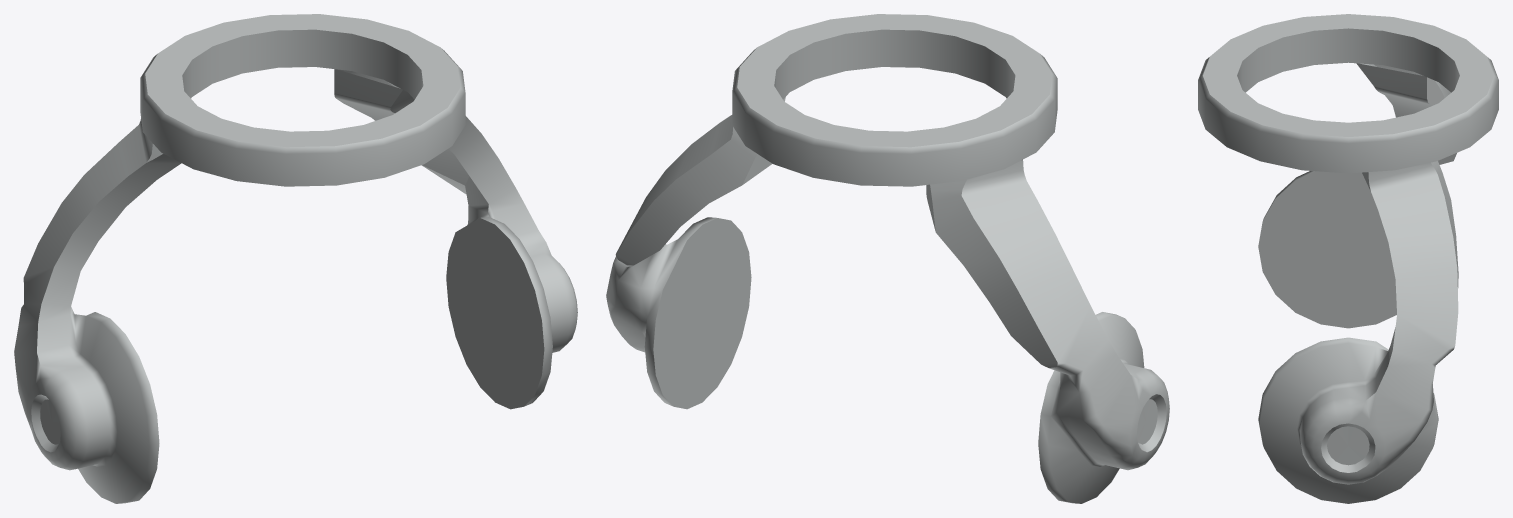
Rendered from palm.obj.
The picture shows the model from 3 angles, left to right: view 1: azimuth 30°, elevation 25°; view 2: azimuth 150°, elevation 25°; view 3: azimuth 270°, elevation 25°; orthographic projection. The views are drawn at different scales.
Parts seen in each view (by area): view 1: palm; view 2: palm; view 3: palm.
Boxes of the visible parts, x1,y1,x2,y2 form: palm: (14,14,577,503); palm: (606,14,1169,503); palm: (1198,14,1498,503).
Size of the model in its own units: 0.1153 by 0.0791 by 0.0635.
1 material, 1 textured.
